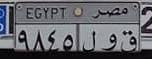4: (46, 29, 60, 54)
5: (61, 32, 75, 53)
8: (32, 28, 45, 55)
9: (18, 27, 30, 55)
laam: (81, 28, 97, 55)
qaaf: (119, 29, 138, 55)
waw: (100, 31, 117, 53)
